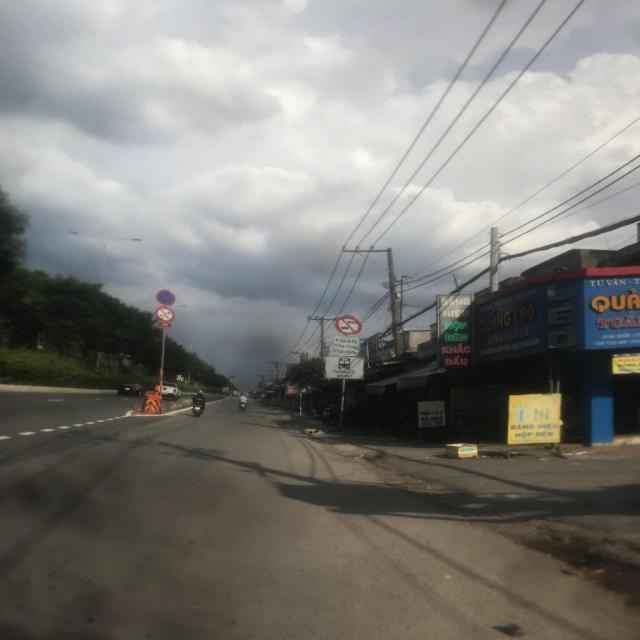107-cam-oto-khach-va-oto-tai: (334, 315, 362, 334)
